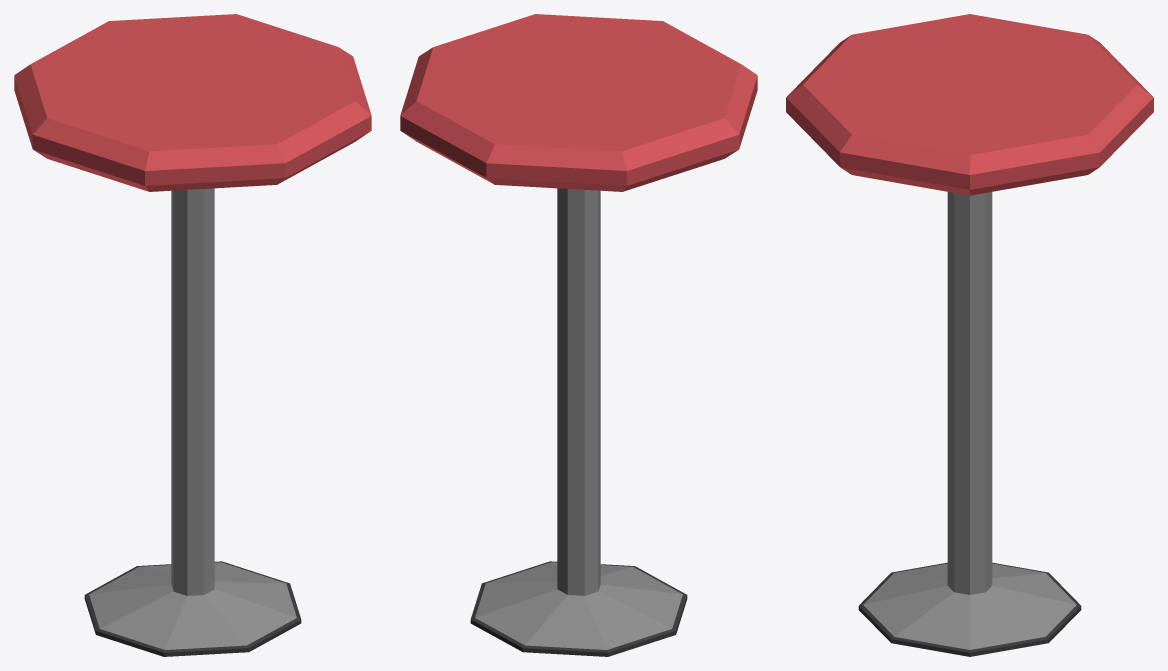
File: Bar Stool.fbx
3 views of the same model, side by side, from view 1: azimuth 30°, elevation 25°; view 2: azimuth 150°, elevation 25°; view 3: azimuth 270°, elevation 25° (orthographic).
Parts seen in each view (by area): view 1: Bar Stool; view 2: Bar Stool; view 3: Bar Stool.
Part boxes in pixels (left/top/right/bottom): Bar Stool: left=14, top=14, right=371, bottom=656; Bar Stool: left=400, top=14, right=757, bottom=656; Bar Stool: left=786, top=14, right=1153, bottom=656.
Size of the model in its own units: 330 by 520 by 330.
